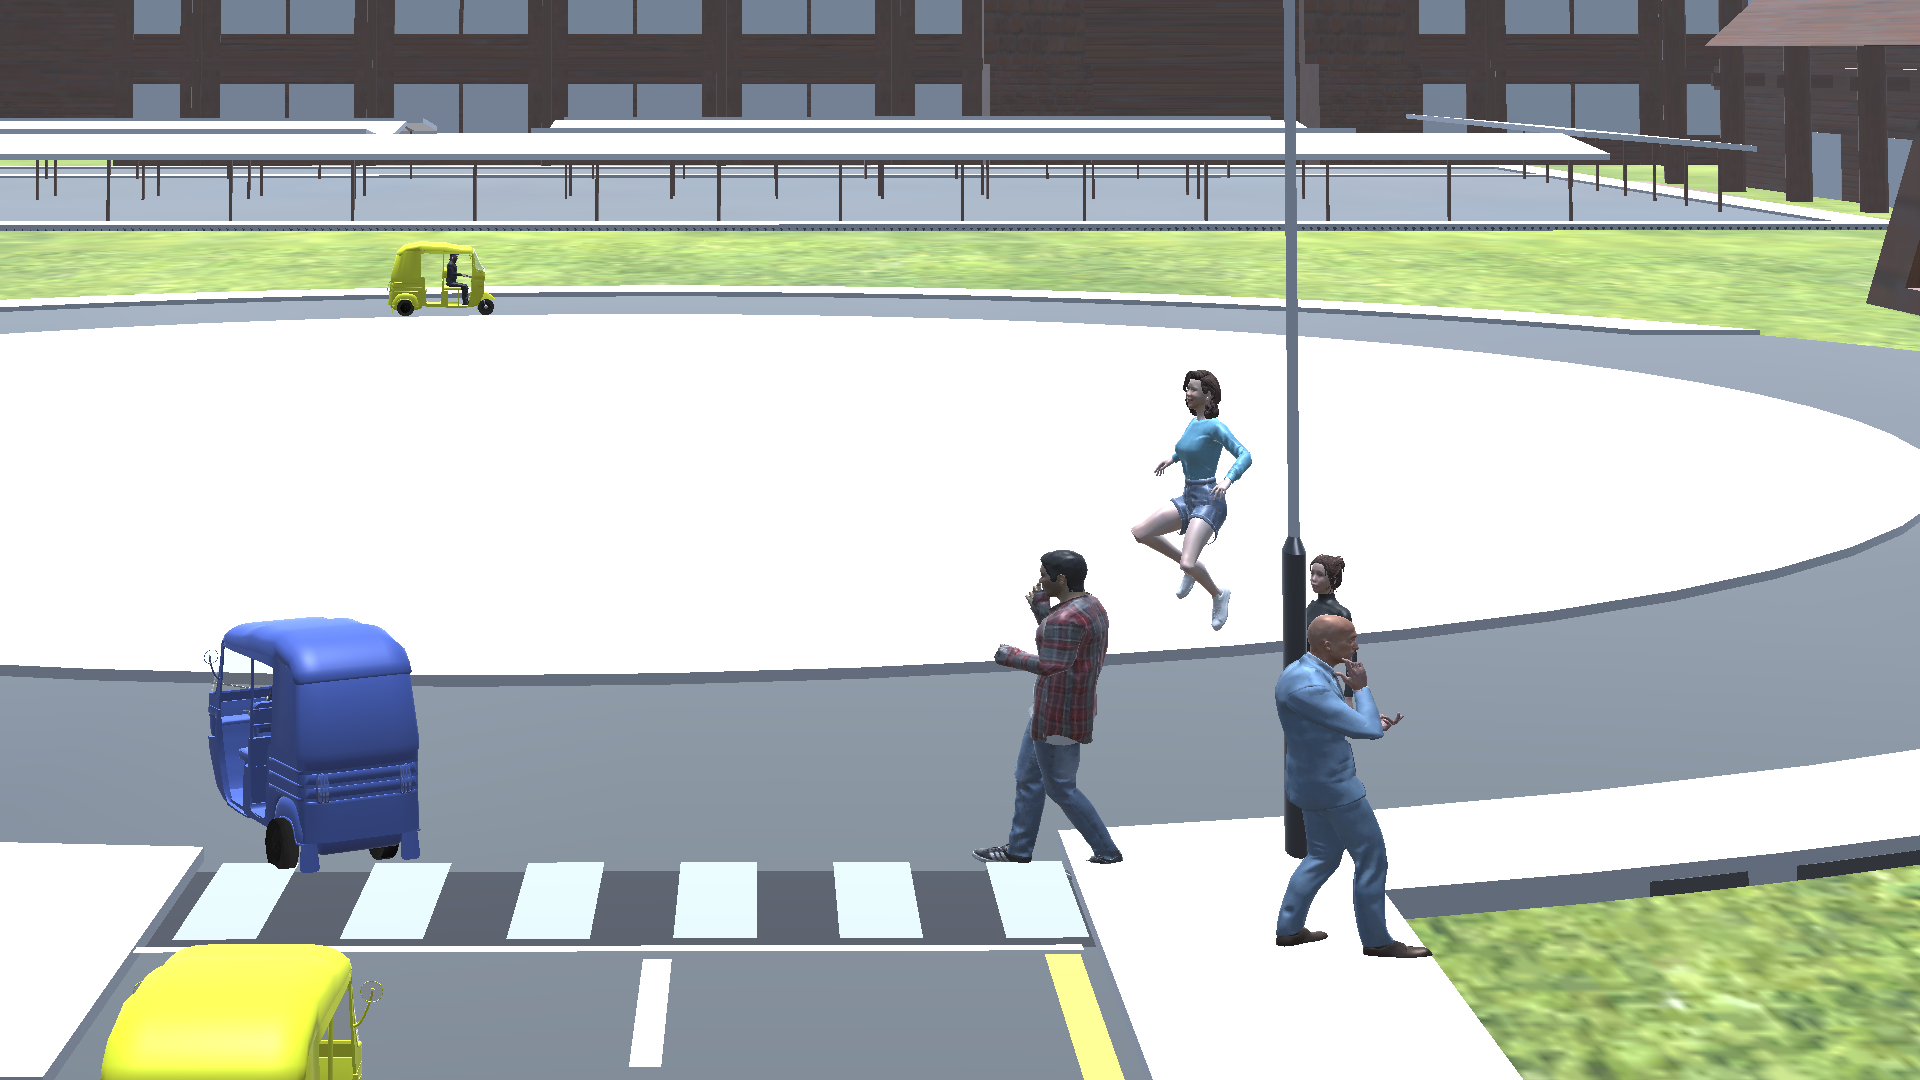pedestrian: (1267, 608, 1441, 968), (973, 541, 1116, 877), (1129, 367, 1250, 648), (1297, 549, 1364, 621)
